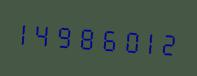eight: (77, 18, 96, 55)
four: (37, 15, 56, 53)
nine: (57, 17, 76, 54)
one: (137, 22, 156, 60), (17, 14, 36, 51)
six: (97, 19, 116, 57)
two: (157, 24, 176, 61)
zero: (117, 21, 136, 58)
